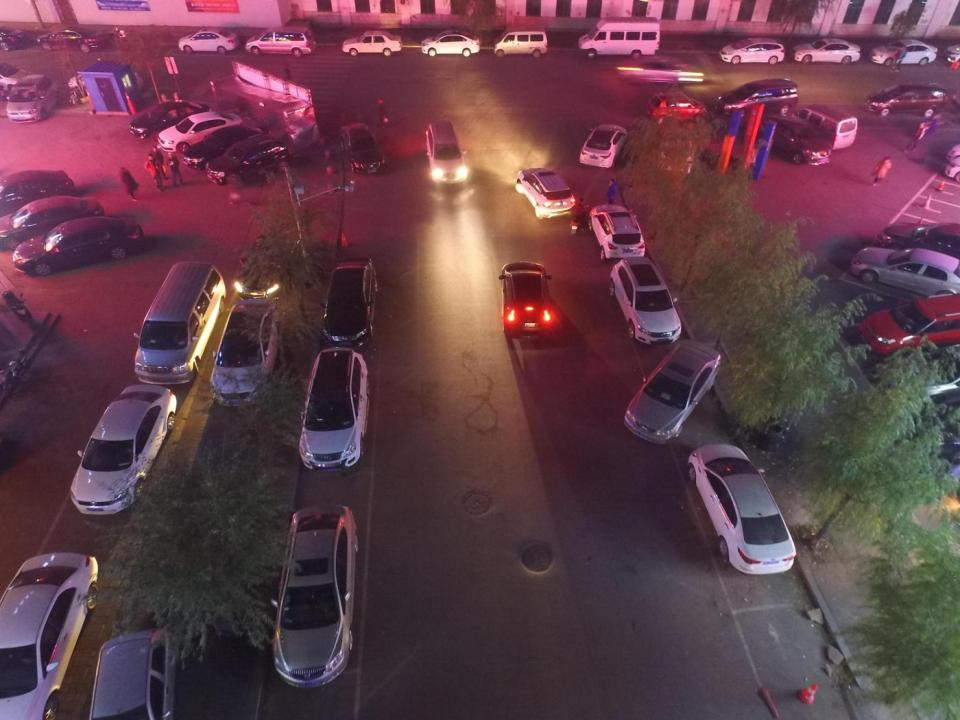car: (0, 553, 98, 720), (268, 505, 358, 686), (688, 443, 797, 574), (70, 382, 176, 515), (624, 338, 721, 443), (87, 626, 175, 720), (209, 299, 281, 406), (12, 216, 142, 275), (859, 294, 960, 360), (609, 258, 681, 343), (851, 245, 960, 300), (319, 257, 378, 345), (11, 195, 105, 250), (882, 342, 960, 402), (235, 232, 294, 301), (500, 262, 554, 337), (758, 113, 832, 165), (877, 222, 960, 266), (183, 126, 263, 170), (158, 112, 242, 153), (129, 100, 212, 139), (10, 170, 76, 219), (588, 204, 644, 261), (516, 166, 575, 218), (901, 430, 960, 480), (341, 123, 386, 175), (11, 75, 58, 122), (579, 124, 626, 168), (645, 91, 706, 124), (68, 71, 142, 98), (868, 38, 937, 66), (37, 27, 113, 52), (720, 36, 784, 64), (792, 37, 859, 63), (178, 28, 239, 54), (420, 30, 480, 56), (342, 31, 401, 57), (0, 62, 38, 94), (10, 64, 38, 96), (943, 41, 960, 63)
van: (134, 262, 225, 385), (299, 348, 368, 470), (206, 133, 288, 185), (578, 17, 660, 60), (788, 104, 858, 150), (715, 79, 798, 116), (864, 82, 946, 117), (426, 121, 467, 182), (244, 27, 315, 57), (495, 25, 547, 57)
